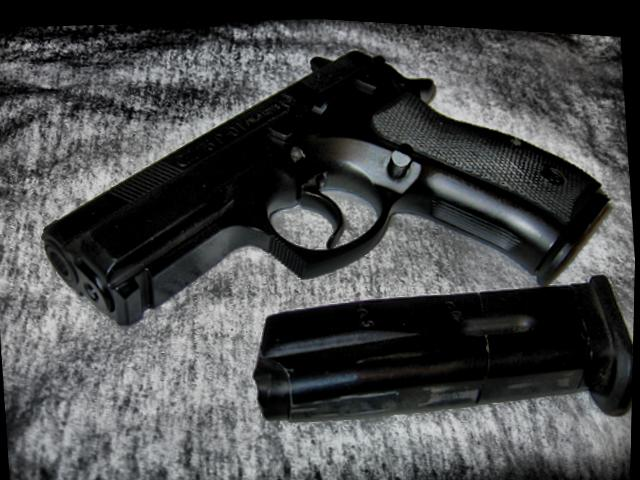pistol: (21, 8, 624, 352)
